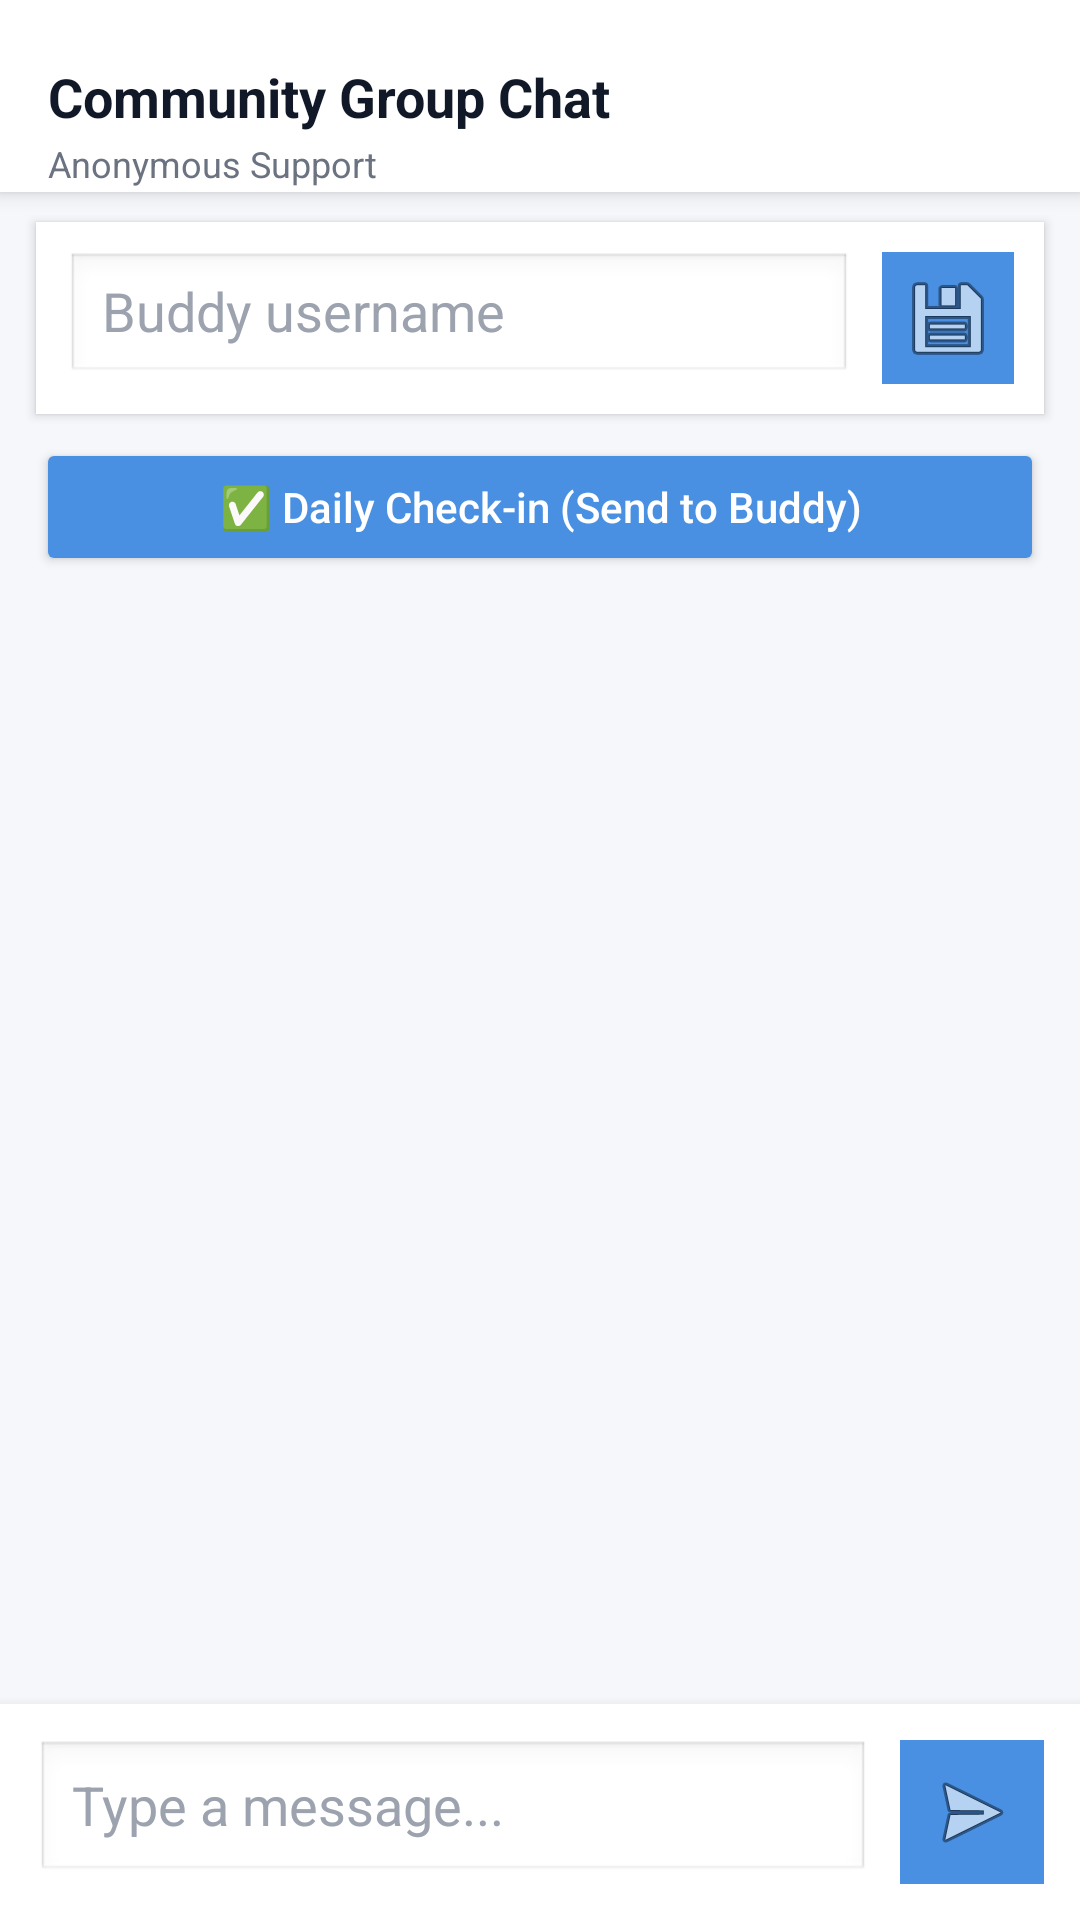

Icon click points for this 1080×1920 phone screenshot, format (x,y):
Save Buddy: (948,318)
send: (972,1812)
